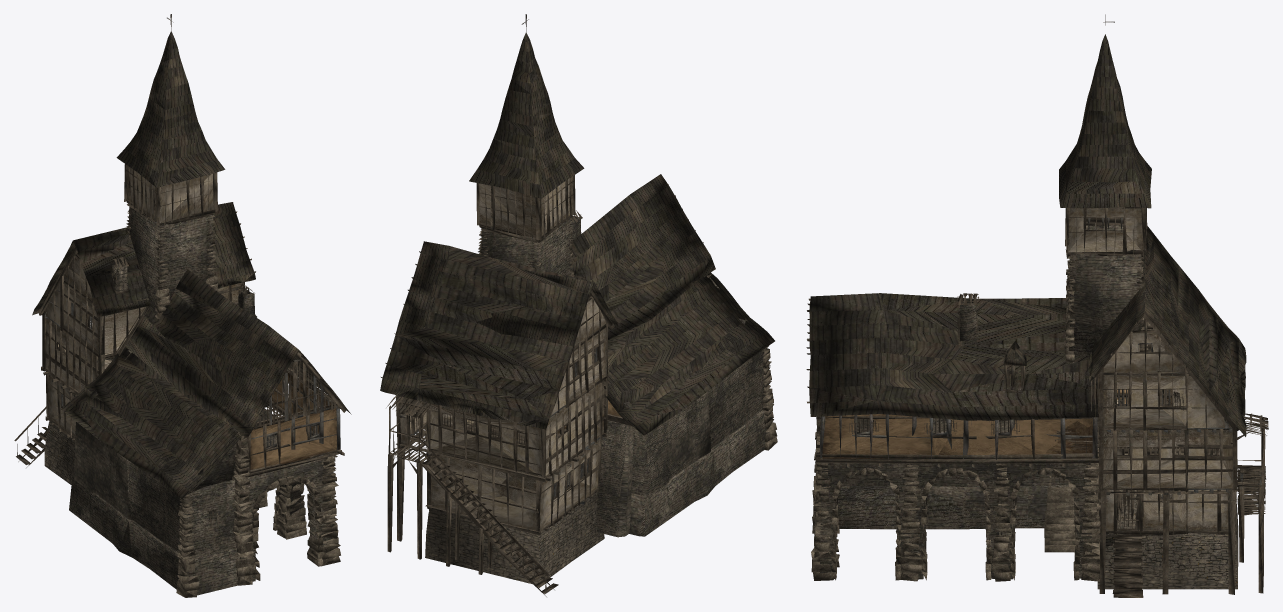
The model's file is eng_chapel.glb.
3 renders of one model, left to right at view 1: azimuth 30°, elevation 25°; view 2: azimuth 150°, elevation 25°; view 3: azimuth 270°, elevation 25°, orthographic. The views are drawn at different scales.
Parts seen in each view (by area): view 1: eng_chapel; view 2: eng_chapel; view 3: eng_chapel.
Part boxes in pixels (box(x1,y1,x2,y2)): eng_chapel: box(14, 14, 351, 597); eng_chapel: box(380, 14, 777, 596); eng_chapel: box(806, 14, 1268, 597).
Size of the model in its own units: 12.31 by 29.22 by 22.13.
Materials: 8 (8 with a texture image).
